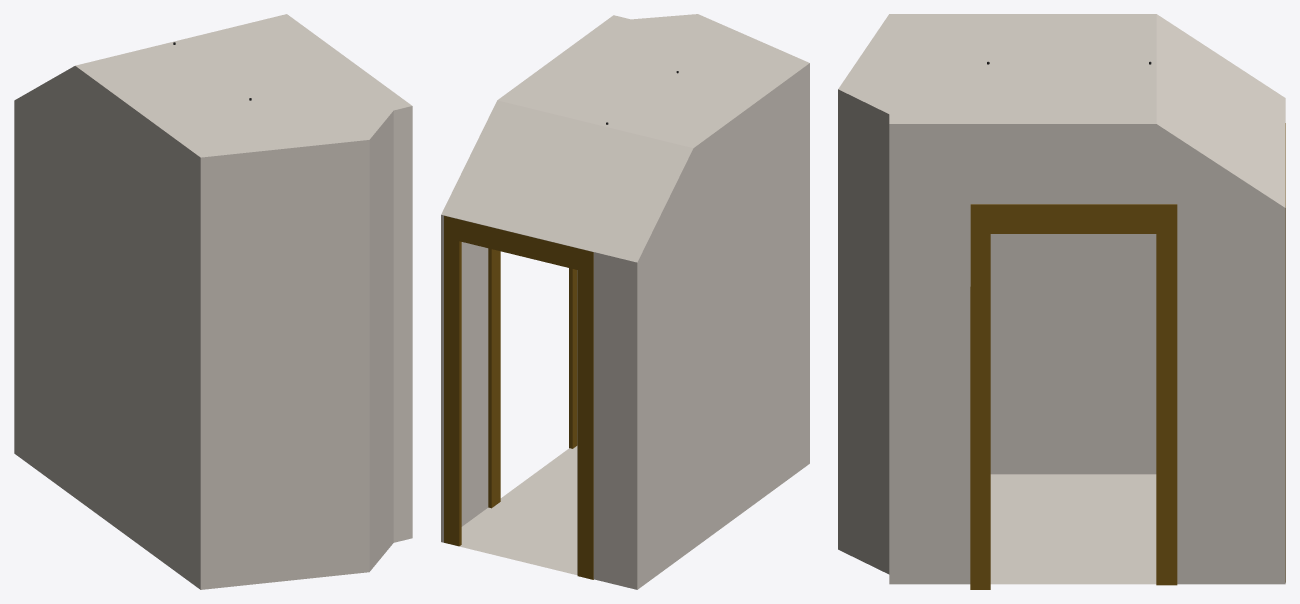
Rendered from closet.glb.
3 views of the same model, side by side, from view 1: azimuth 30°, elevation 25°; view 2: azimuth 150°, elevation 25°; view 3: azimuth 270°, elevation 25° (orthographic). The views are drawn at different scales.
Parts seen in each view (by area): view 1: Walls; view 2: Walls, NarrowDoorframe, WideDoorframe; view 3: Walls, WideDoorframe.
Boxes of the visible parts, left/top/right/bottom form: Walls: left=14, top=14, right=412, bottom=589; Walls: left=441, top=14, right=809, bottom=589; NarrowDoorframe: left=444, top=215, right=593, bottom=579; WideDoorframe: left=488, top=248, right=577, bottom=508; Walls: left=838, top=14, right=1285, bottom=584; WideDoorframe: left=970, top=204, right=1177, bottom=589.
Bounding box in the file's own units: 1.44 × 2.84 × 2.46.
